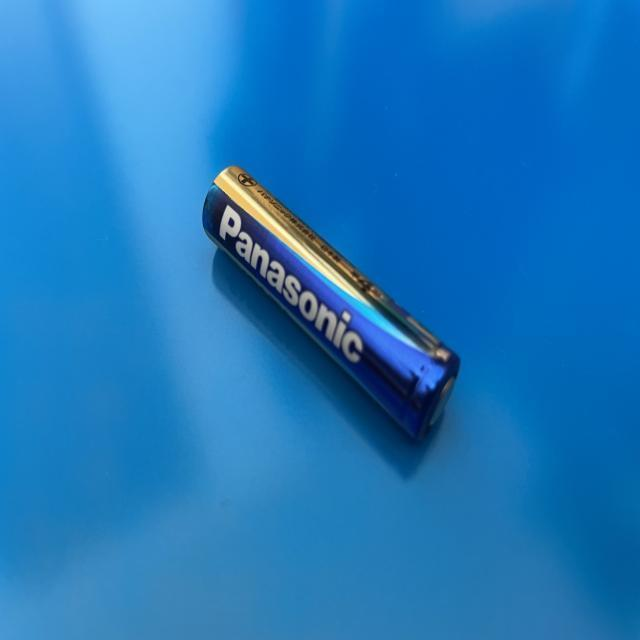Hazard: (202, 162, 463, 444)
